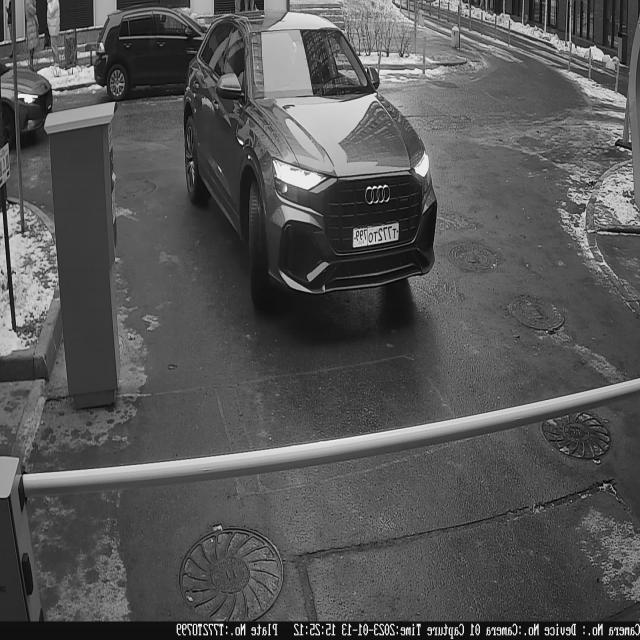car-plate-numbers: (352, 219, 403, 252)
